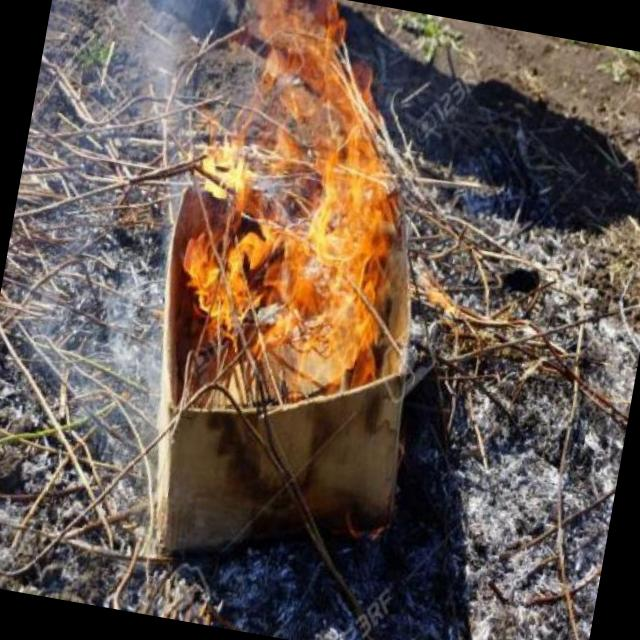box: (109, 97, 478, 603)
